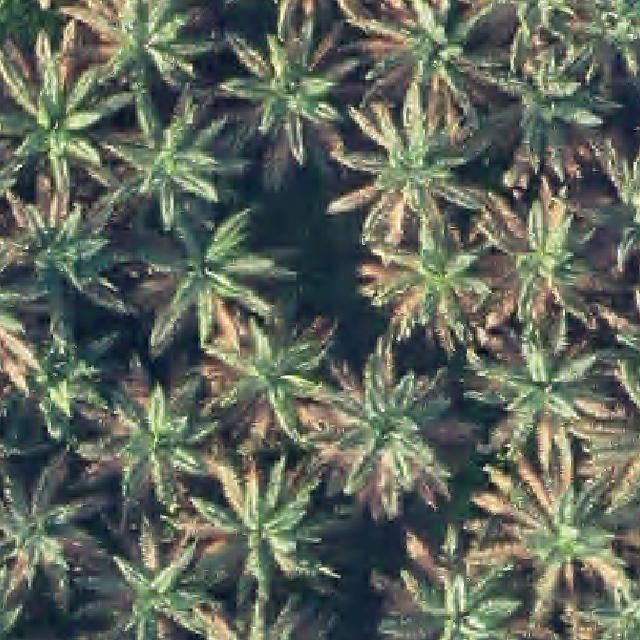oilpalm: (300, 354, 456, 503), (172, 448, 323, 596), (334, 98, 477, 243), (476, 41, 613, 180), (489, 458, 626, 595), (0, 177, 125, 325), (139, 204, 269, 336), (91, 96, 230, 219), (346, 0, 506, 104), (466, 339, 606, 455), (484, 199, 604, 332), (221, 19, 340, 152), (0, 458, 92, 622), (195, 314, 322, 432), (0, 39, 115, 165), (365, 225, 486, 344), (85, 372, 201, 496), (378, 552, 523, 640), (91, 522, 199, 640)
